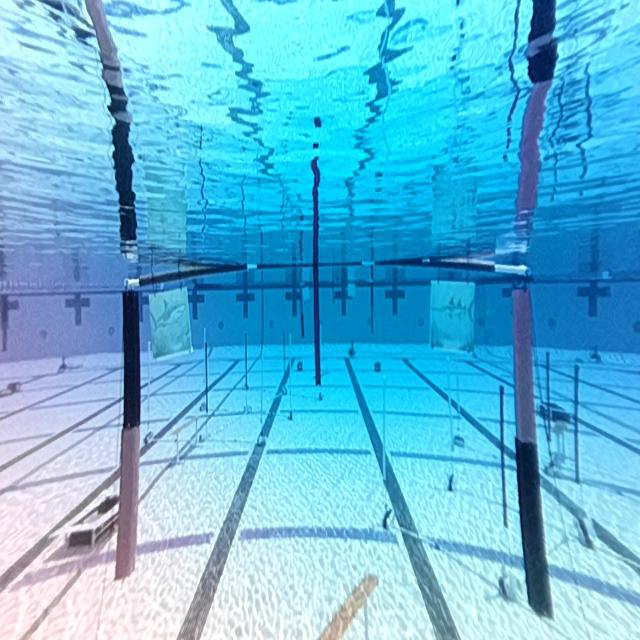pointed_nose: (428, 274, 478, 358)
round_nose: (150, 287, 192, 358)
